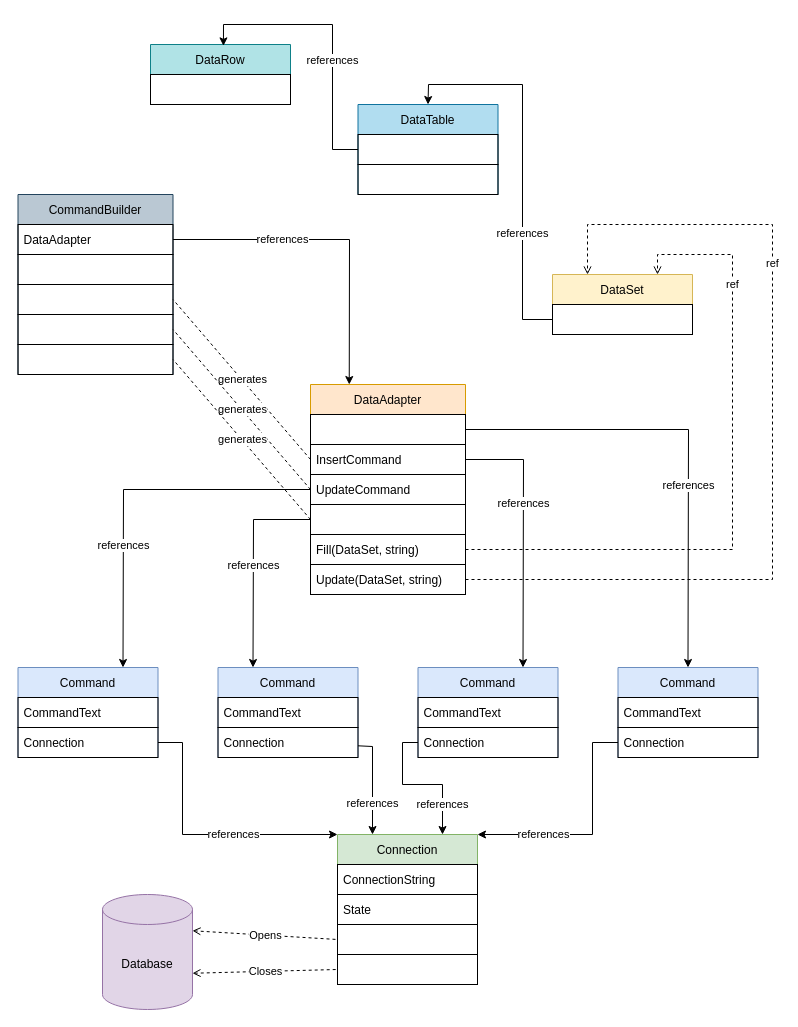
The diagram is 798 pixels wide and 1027 high, and some of its shapes have lost their labels. Each missing label, with the centre of its shape:
Close(): the point at 407,969
DeleteCommand: the point at 388,519
GetDeleteCommand(): the point at 95,359
GetInsertCommand(): the point at 95,299
GetSelectCommand(): the point at 95,269
GetUpdateCommand(): the point at 95,329
Open(): the point at 407,939
Rows: the point at 427,149
RowState: the point at 220,89
SelectCommand: the point at 388,429
TableName: the point at 427,179
Tables: the point at 622,319
